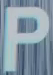Parking: (2, 1, 47, 71)
